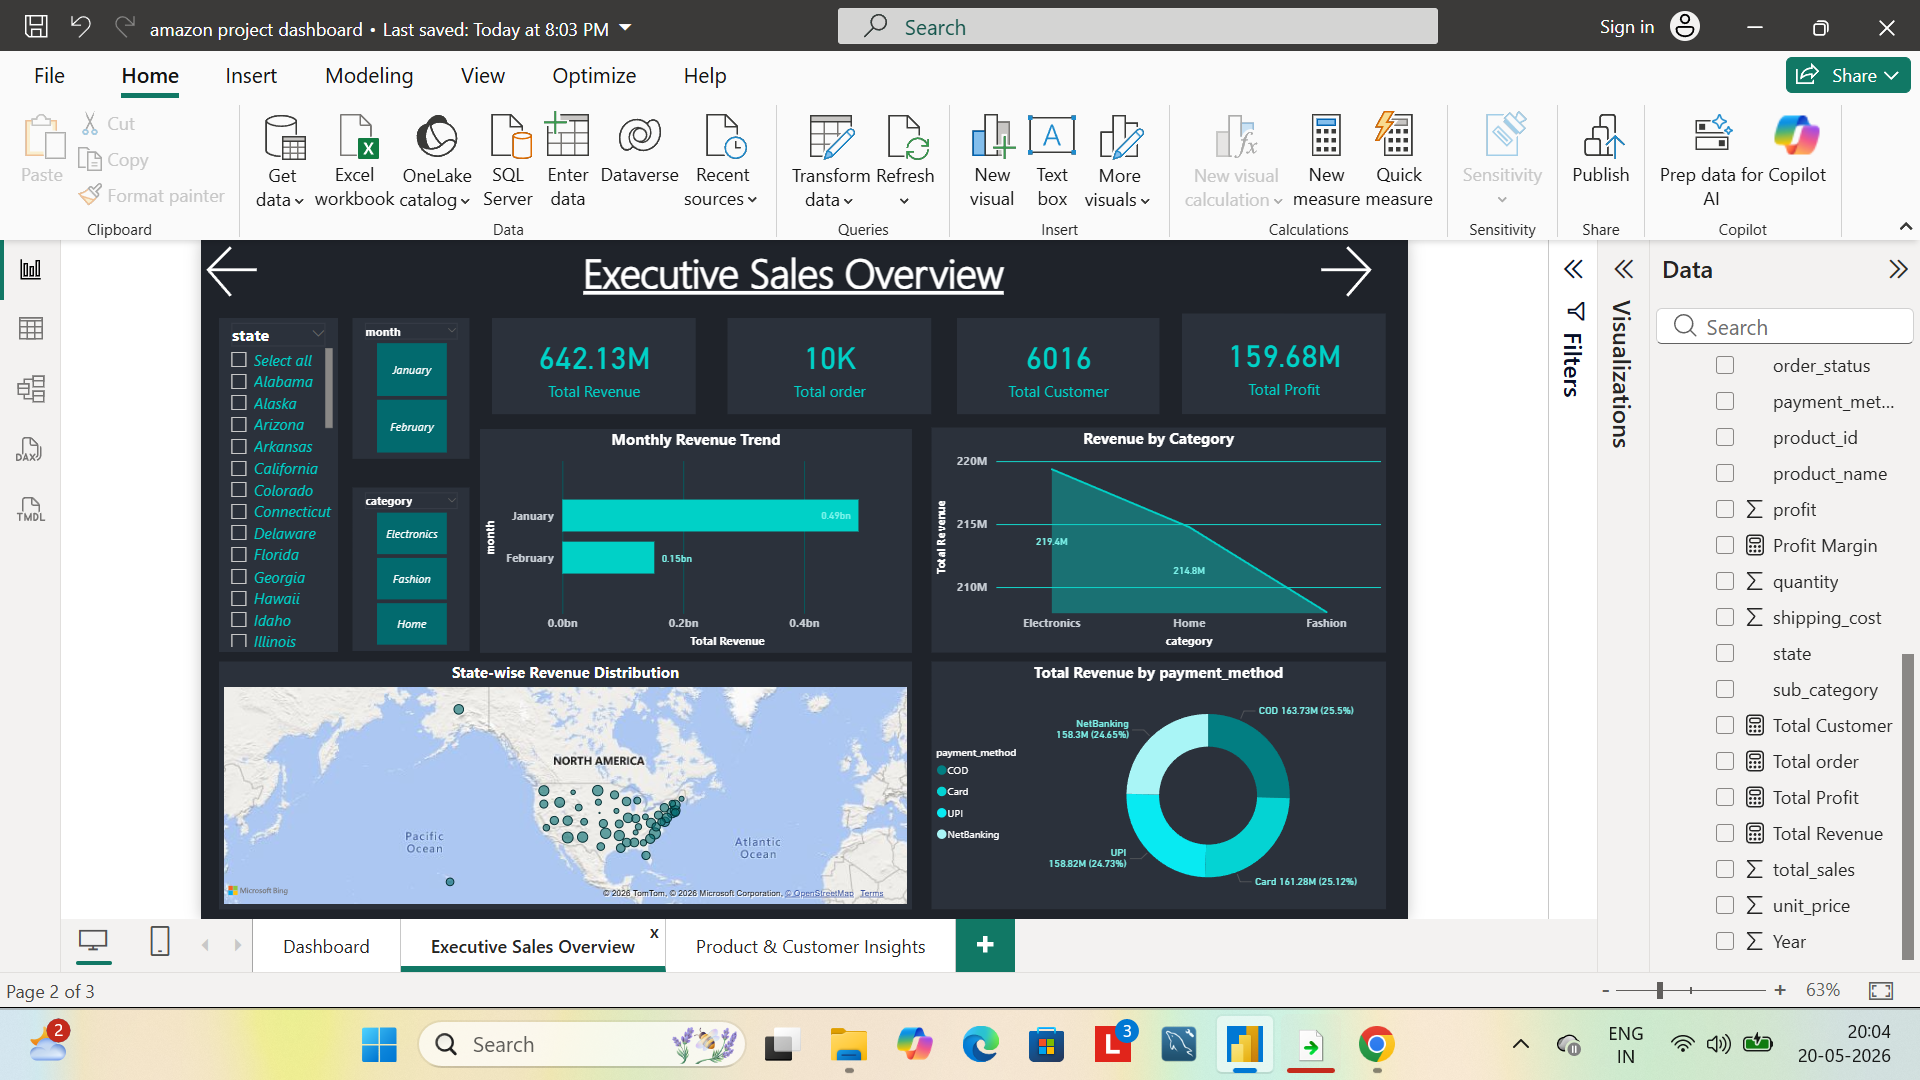

The page's visual inventory and layout, read from the dashboard file:
{"tool":"powerbi","page":{"name":"Executive Sales Overview","canvas":[1280,720],"ordinal":1},"visuals":[{"type":"card","fields":{"Values":["cleaned_amazon_sales.Total Revenue"]},"box":[308.6,82.7,216.3,101.8],"z":0},{"type":"card","fields":{"Values":["cleaned_amazon_sales.Total Customer"]},"box":[801.7,82.7,214.7,101.8],"z":1000},{"type":"card","fields":{"Values":["cleaned_amazon_sales.Total order"]},"box":[558.3,82.7,216.3,101.8],"z":2000},{"type":"card","fields":{"Values":["cleaned_amazon_sales.Total Profit"]},"box":[1040.3,77.9,216.3,106.6],"z":3000},{"type":"barChart","title":"Monthly Revenue Trend","fields":{"Category":["cleaned_amazon_sales.month"],"Y":["cleaned_amazon_sales.Total Revenue"]},"box":[295.9,200.4,458.1,237],"z":4000},{"type":"stackedAreaChart","title":"Revenue by Category","fields":{"Category":["cleaned_amazon_sales.category"],"Y":["cleaned_amazon_sales.Total Revenue"]},"box":[774.6,198.8,482,238.6],"z":5000},{"type":"map","title":"State-wise Revenue Distribution","fields":{"Size":["cleaned_amazon_sales.Total Revenue"],"Category":["cleaned_amazon_sales.state"]},"box":[19.1,447,734.9,262.5],"z":6000},{"type":"donutChart","fields":{"Y":["cleaned_amazon_sales.Total Revenue"],"Category":["cleaned_amazon_sales.payment_method"]},"box":[774.6,447,482,262.5],"z":7000},{"type":"actionButton","box":[0,0,100.2,66.8],"z":8000},{"type":"textbox","box":[100.2,0,1056.2,77.9],"z":9000},{"type":"actionButton","box":[1180.2,0,100.2,66.8],"z":10000},{"type":"slicer","fields":{"Values":["cleaned_amazon_sales.category"]},"box":[160.7,262.5,124.1,173.4],"z":11000},{"type":"slicer","fields":{"Values":["cleaned_amazon_sales.state"]},"box":[19.1,82.7,125.7,353.1],"z":12000},{"type":"slicer","fields":{"Values":["cleaned_amazon_sales.month"]},"box":[160.7,82.7,124.1,149.5],"z":13000}]}

Visuals, with their boxes on the page's 1280x720 design canvas (x1, y1, x2, y2). These are canvas units, not pixel positions in the 1920x1080 screenshot, which may show the page scaled, cropped or inside an application window:
card - cleaned_amazon_sales.Total Revenue: (x1=309, y1=83, x2=525, y2=184)
card - cleaned_amazon_sales.Total Customer: (x1=802, y1=83, x2=1016, y2=184)
card - cleaned_amazon_sales.Total order: (x1=558, y1=83, x2=775, y2=184)
card - cleaned_amazon_sales.Total Profit: (x1=1040, y1=78, x2=1257, y2=184)
"Monthly Revenue Trend" barChart: (x1=296, y1=200, x2=754, y2=437)
"Revenue by Category" stackedAreaChart: (x1=775, y1=199, x2=1257, y2=437)
"State-wise Revenue Distribution" map: (x1=19, y1=447, x2=754, y2=710)
donutChart - cleaned_amazon_sales.Total Revenue x cleaned_amazon_sales.payment_method: (x1=775, y1=447, x2=1257, y2=710)
actionButton: (x1=0, y1=0, x2=100, y2=67)
textbox: (x1=100, y1=0, x2=1156, y2=78)
actionButton: (x1=1180, y1=0, x2=1280, y2=67)
slicer - cleaned_amazon_sales.category: (x1=161, y1=262, x2=285, y2=436)
slicer - cleaned_amazon_sales.state: (x1=19, y1=83, x2=145, y2=436)
slicer - cleaned_amazon_sales.month: (x1=161, y1=83, x2=285, y2=232)
